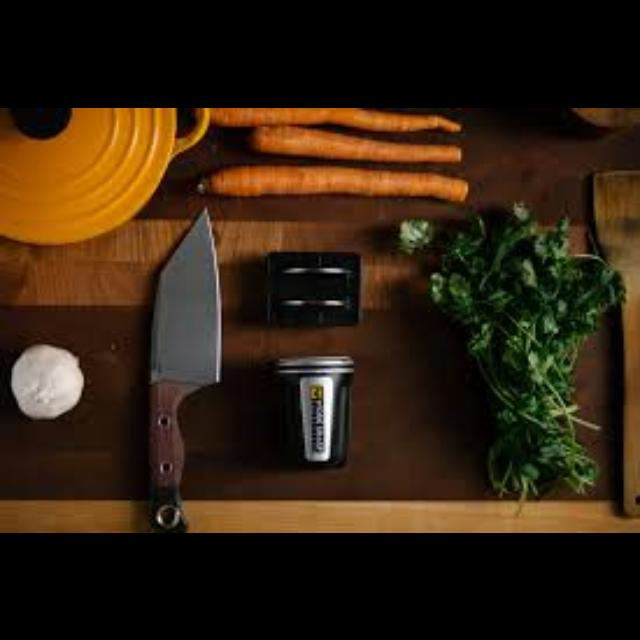knife: (147, 202, 221, 530)
